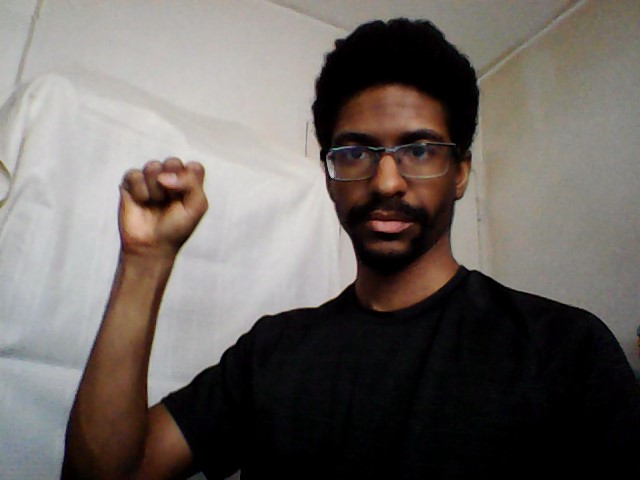s: (111, 150, 216, 257)
